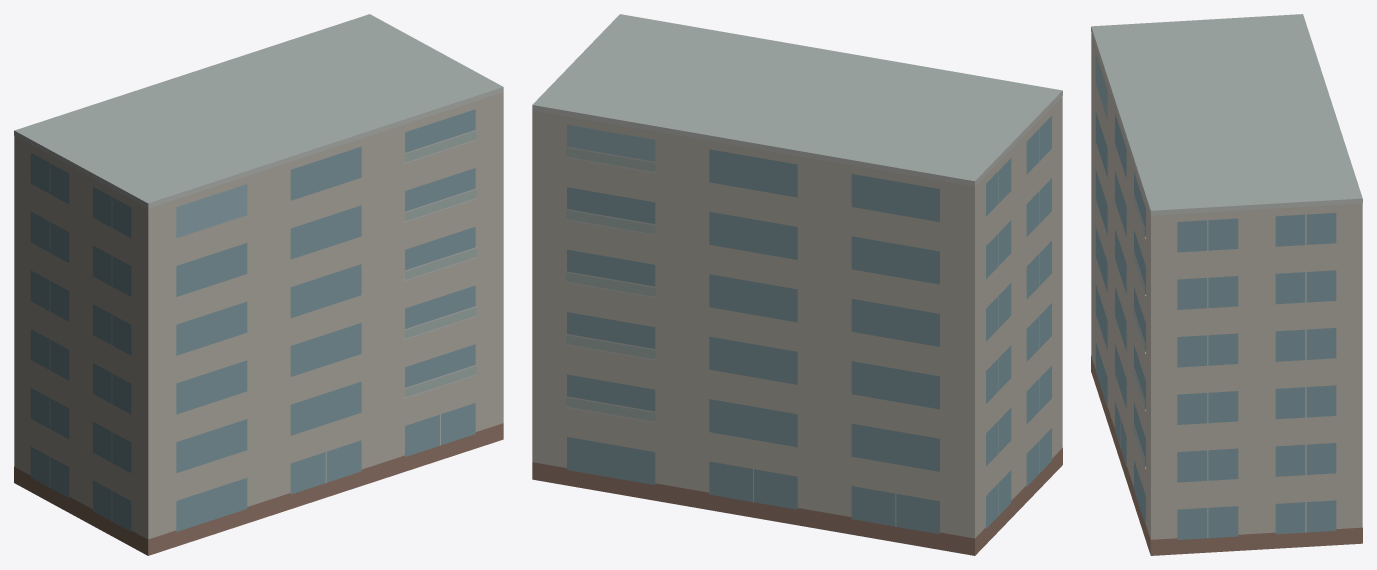
Rendered from survey-upis-32747905.glb.
3 renders of one model, left to right at view 1: azimuth 30°, elevation 25°; view 2: azimuth 150°, elevation 25°; view 3: azimuth 270°, elevation 25°, orthographic. The views are drawn at different scales.
Parts seen in each view (by area): view 1: survey-upis-32747905.tmp; view 2: survey-upis-32747905.tmp; view 3: survey-upis-32747905.tmp.
Boxes of the visible parts, box(x1,y1,x2,y2) form: survey-upis-32747905.tmp: box(14, 14, 503, 555); survey-upis-32747905.tmp: box(532, 14, 1062, 555); survey-upis-32747905.tmp: box(1091, 14, 1362, 555).
Size of the model in its own units: 20.92 by 17.1 by 12.21.
